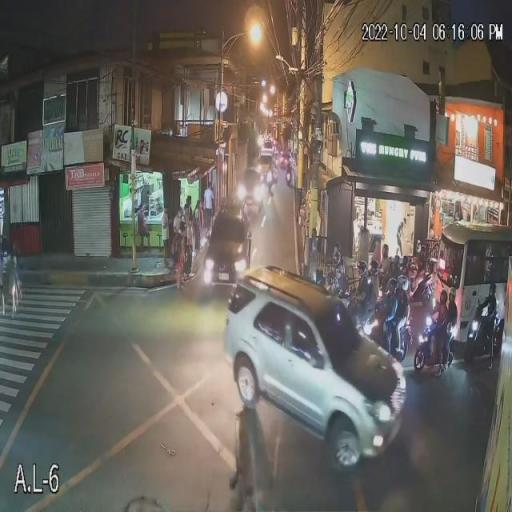helmet: (369, 260, 382, 281), (396, 277, 410, 294), (417, 245, 430, 263), (385, 278, 399, 293), (354, 258, 367, 272), (380, 244, 392, 259), (329, 250, 342, 263), (487, 282, 498, 297), (448, 287, 458, 303), (438, 290, 448, 304)
motorcycle: (410, 313, 453, 376), (344, 292, 383, 345), (374, 308, 412, 362), (462, 310, 496, 368), (317, 266, 352, 304)
rider: (380, 275, 409, 349), (422, 287, 449, 362), (468, 283, 498, 345), (439, 286, 458, 378), (354, 261, 380, 319), (364, 261, 384, 335), (395, 277, 410, 363), (407, 248, 429, 299), (322, 251, 342, 292), (376, 245, 394, 278)
